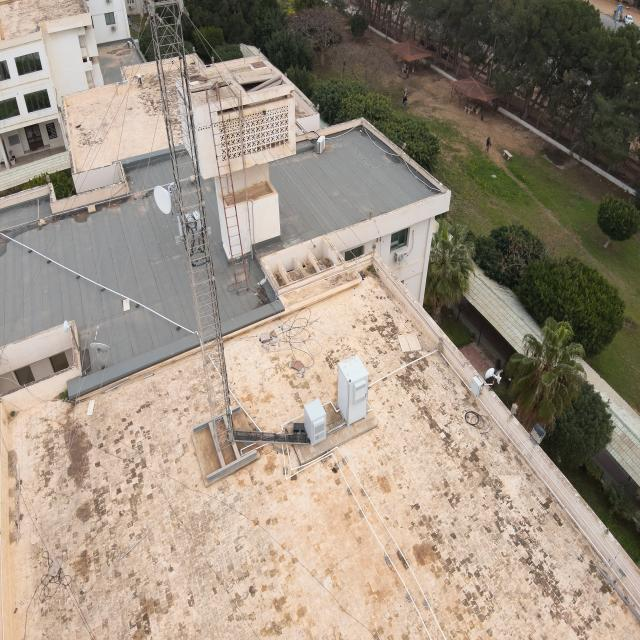microware-dish: (153, 185, 176, 214)
power-box: (177, 209, 204, 237)
